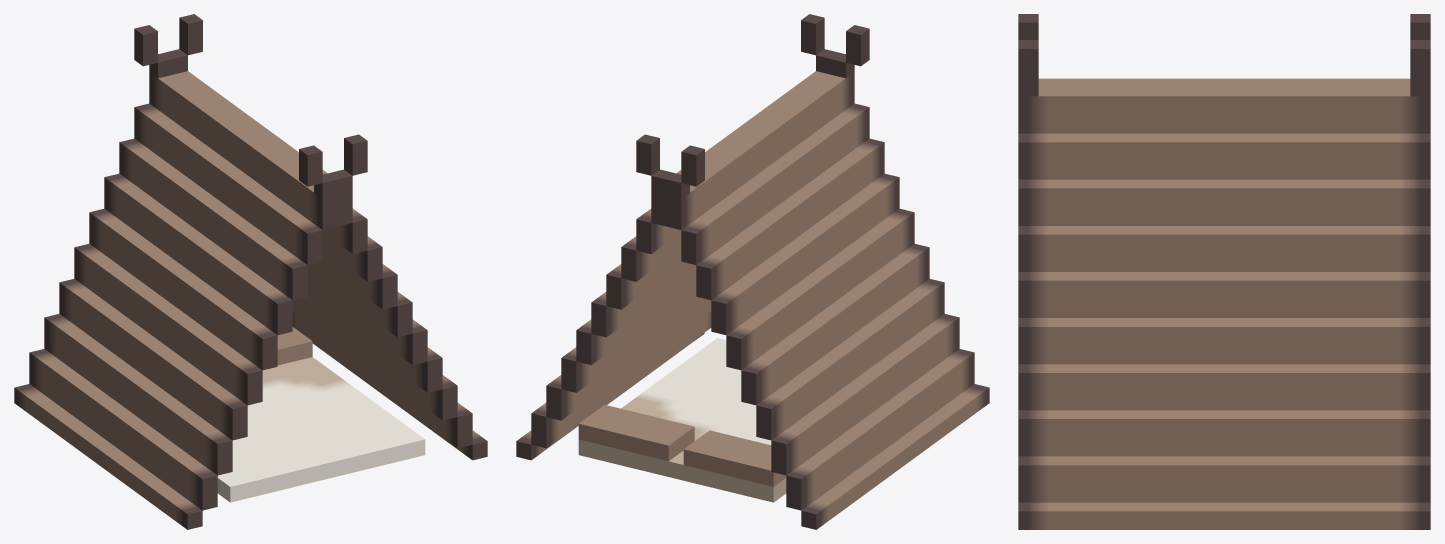
File: indian tent 2.obj
3 views of the same model, side by side, from view 1: azimuth 30°, elevation 25°; view 2: azimuth 150°, elevation 25°; view 3: azimuth 270°, elevation 25° (orthographic). The views are drawn at different scales.
Bounding box in the file's own units: 20 × 22 × 20.
Materials: 1 (1 with a texture image).
